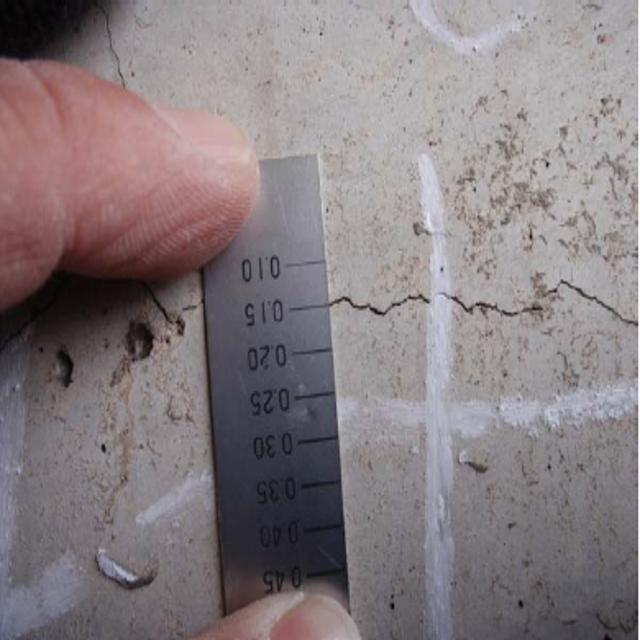crack: (328, 259, 640, 354)
